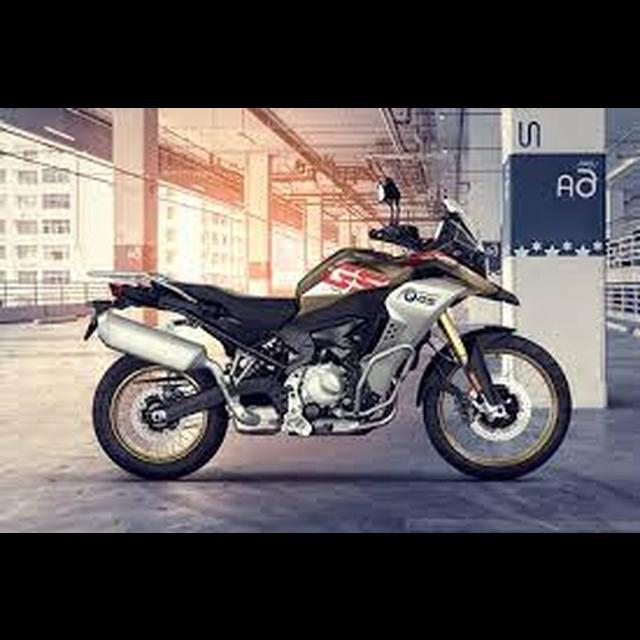motorcycle: (81, 175, 574, 487)
